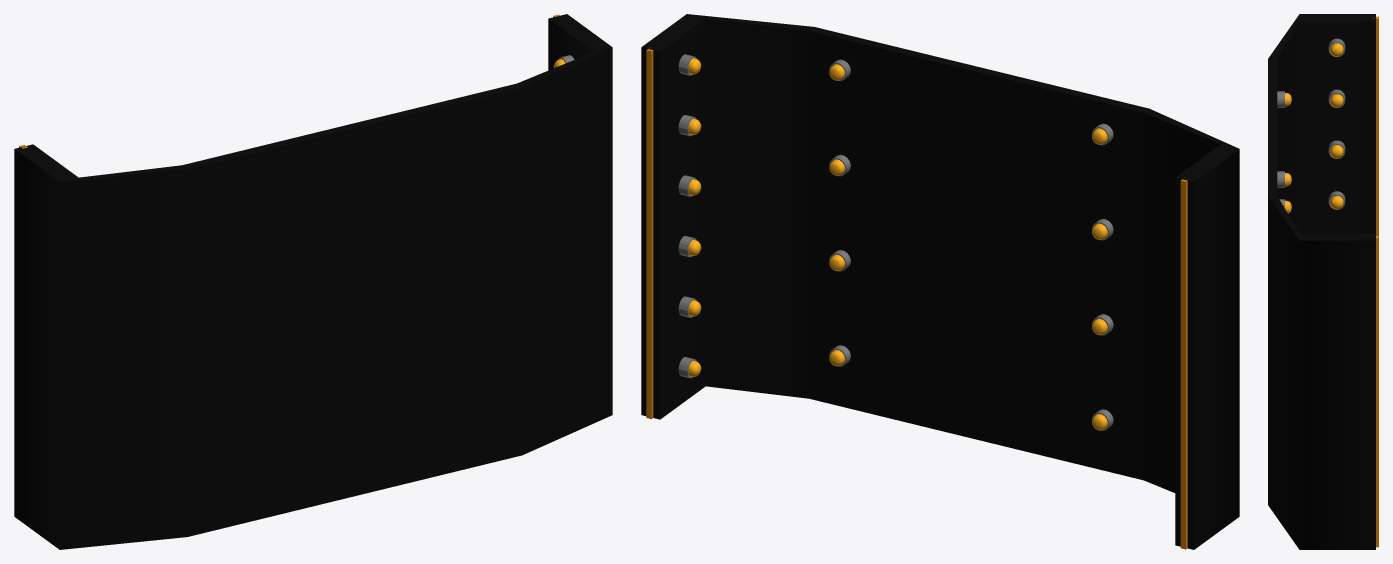
File: BackWall.fbx
The picture shows the model from 3 angles, left to right: view 1: azimuth 30°, elevation 25°; view 2: azimuth 150°, elevation 25°; view 3: azimuth 270°, elevation 25°; orthographic projection. The views are drawn at different scales.
Parts seen in each view (by area): view 1: BackWall001; view 2: BackWall001; view 3: BackWall001.
Part boxes in pixels (box(x1,y1,x2,y2)): BackWall001: box(14, 14, 612, 549); BackWall001: box(641, 14, 1239, 549); BackWall001: box(1268, 14, 1378, 549).
Size of the model in its own units: 6896 by 4383 by 1423.
